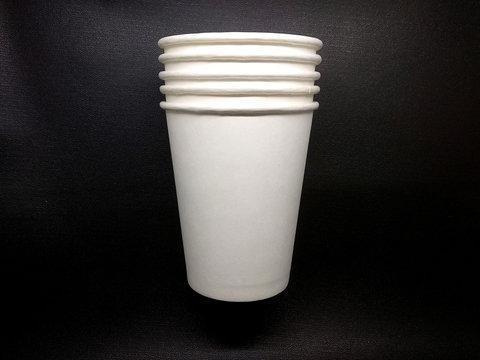cup-disposable: (154, 23, 325, 306)
